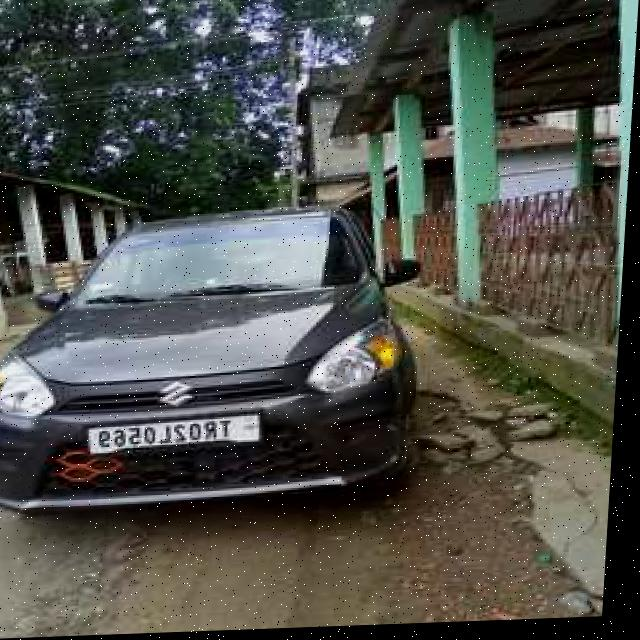plate: (90, 415, 271, 455)
